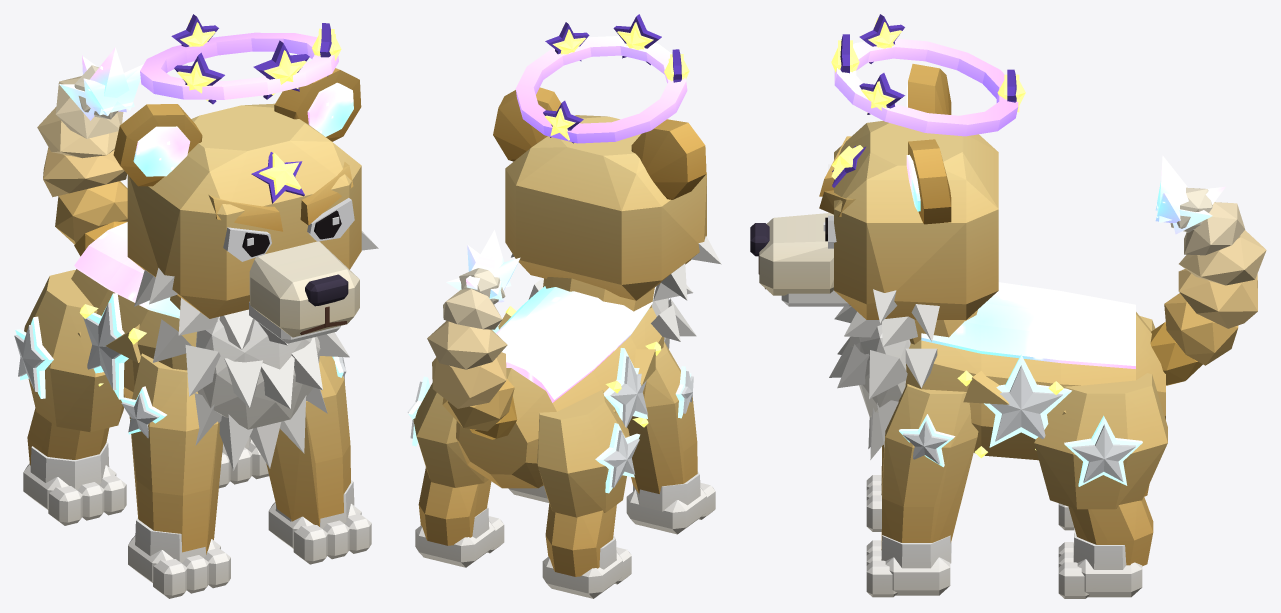
The model's file is StarPup.glb.
3 renders of one model, left to right at view 1: azimuth 30°, elevation 25°; view 2: azimuth 150°, elevation 25°; view 3: azimuth 270°, elevation 25°, orthographic. The views are drawn at different scales.
Parts seen in each view (by area): view 1: StarPup; view 2: StarPup; view 3: StarPup.
Boxes of the visible parts, x1,y1,x2,y2 form: StarPup: [14, 14, 378, 598]; StarPup: [407, 14, 721, 598]; StarPup: [750, 14, 1266, 598].
Size of the model in its own units: 0.5158 by 1.09 by 0.9832.
Materials: 1 (1 with a texture image).
